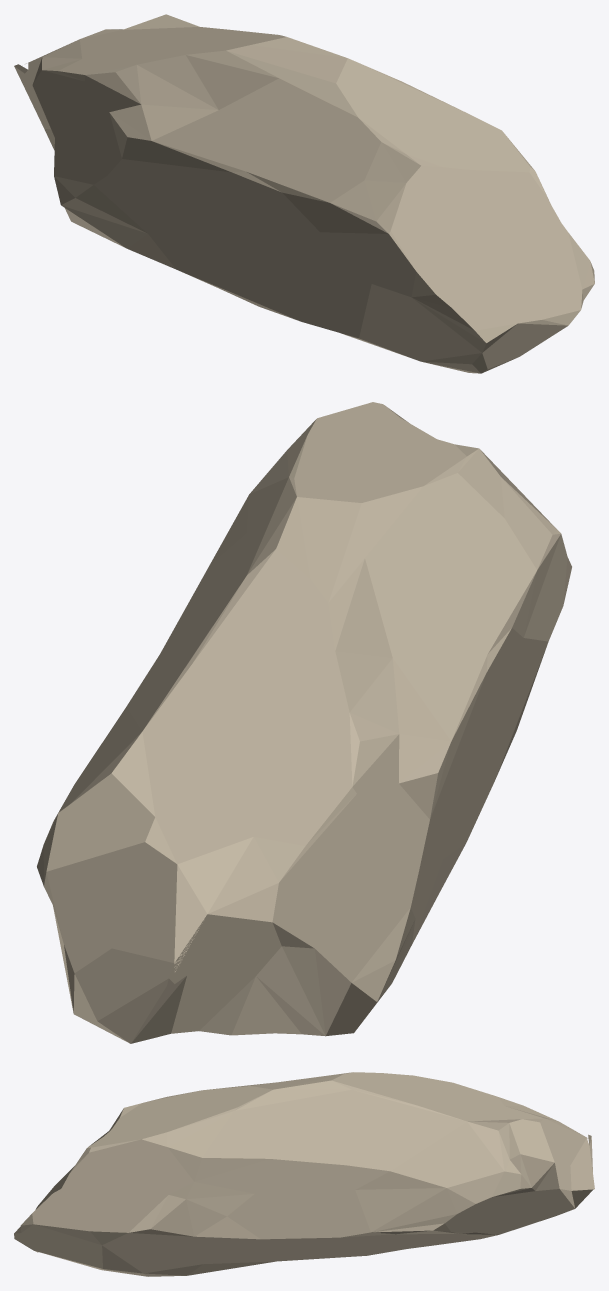
Rendered from kamien1.fbx.
3 views of the same model, one above another, from view 1: azimuth 30°, elevation 25°; view 2: azimuth 150°, elevation 25°; view 3: azimuth 270°, elevation 25° (orthographic). The views are drawn at different scales.
Parts seen in each view (by area): view 1: Cube.005; view 2: Cube.005; view 3: Cube.005.
Part boxes in pixels (x1,y1,x2,y2): Cube.005: (14, 14, 594, 373); Cube.005: (37, 402, 571, 1043); Cube.005: (14, 1072, 594, 1276).
Size of the model in its own units: 388 by 309 by 915.
